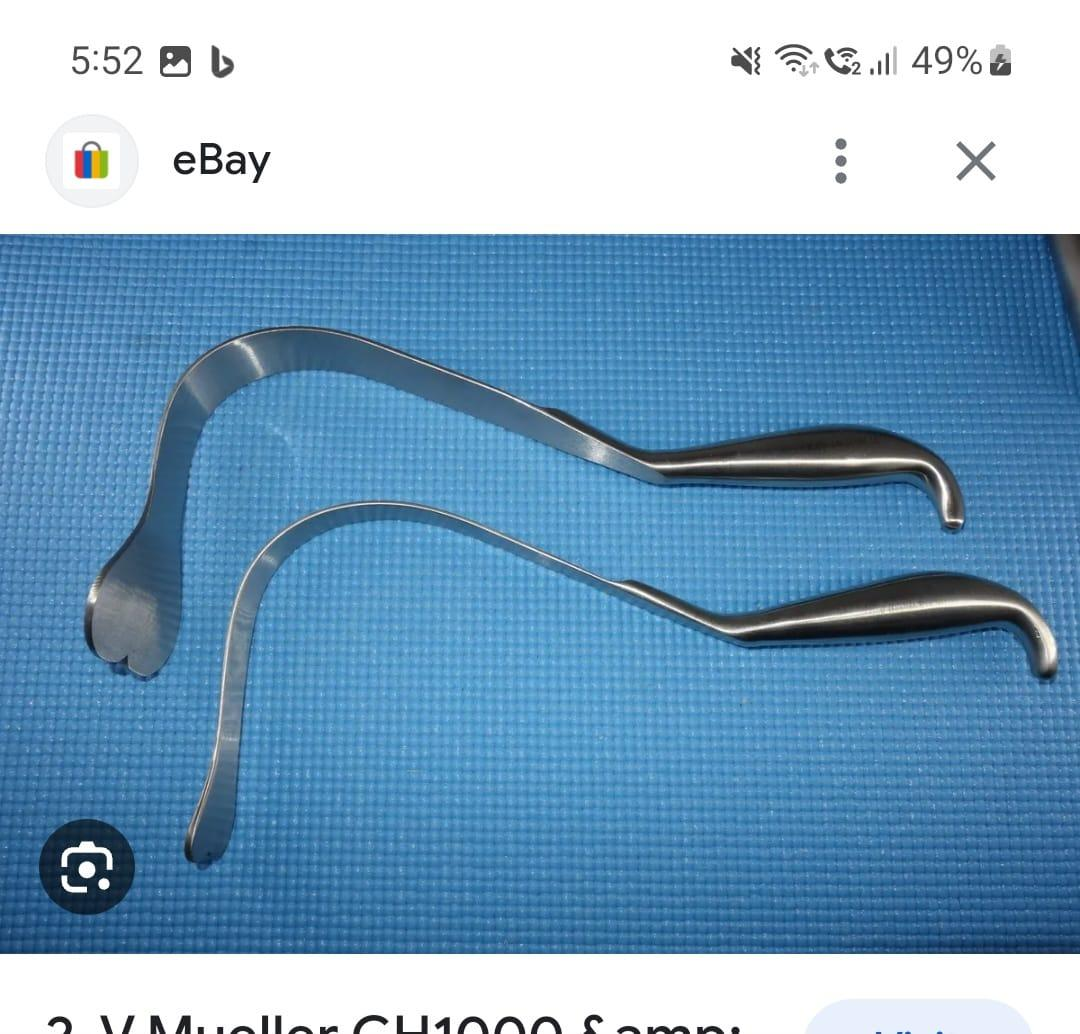Harrington Retractor: (68, 313, 975, 693)
